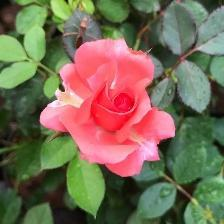rose: (38, 36, 178, 180)
